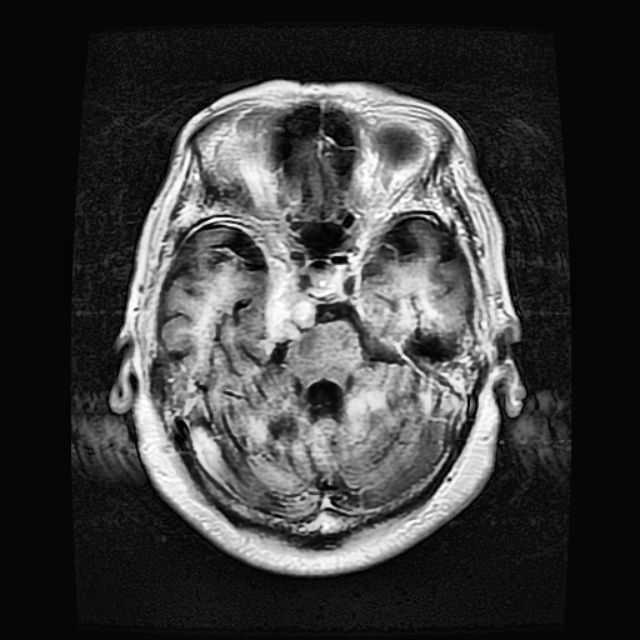Glioma: (259, 257, 318, 353)
